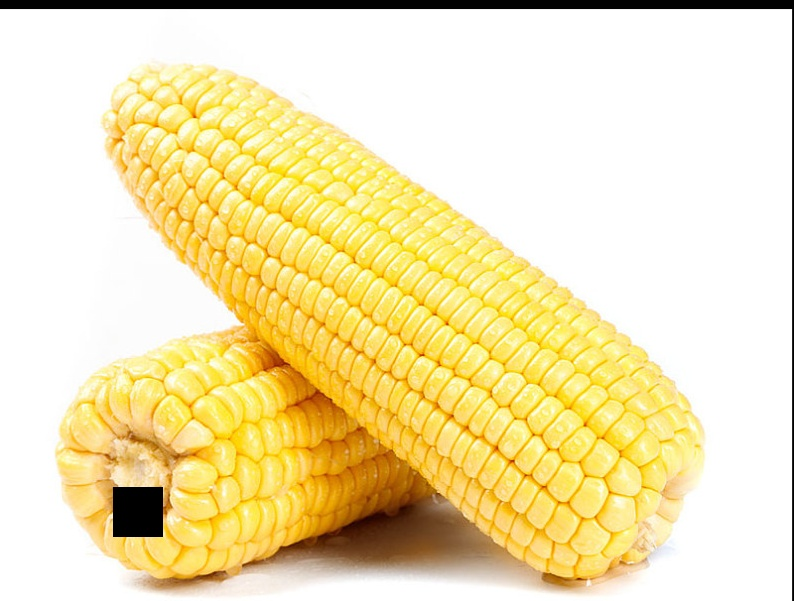corn: (107, 61, 684, 551), (55, 297, 549, 579)
